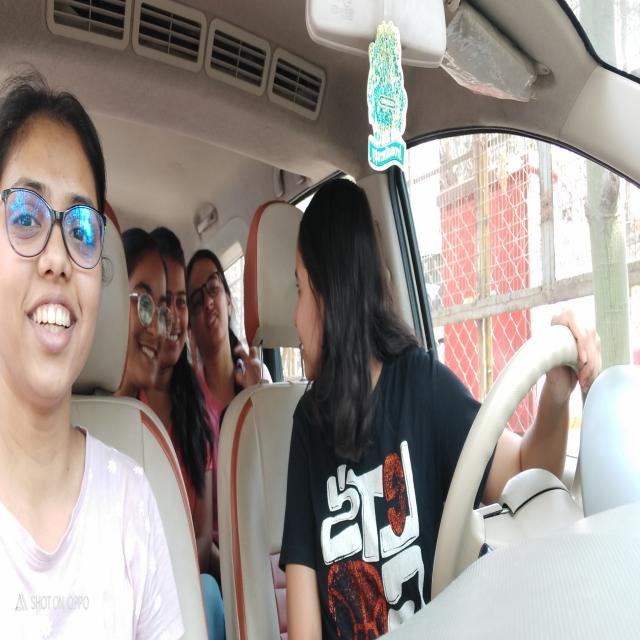LeftRight: (290, 220, 333, 364)
person: (0, 119, 108, 398), (130, 243, 168, 383), (192, 258, 233, 355), (165, 236, 193, 360)
talking: (295, 333, 307, 357)
